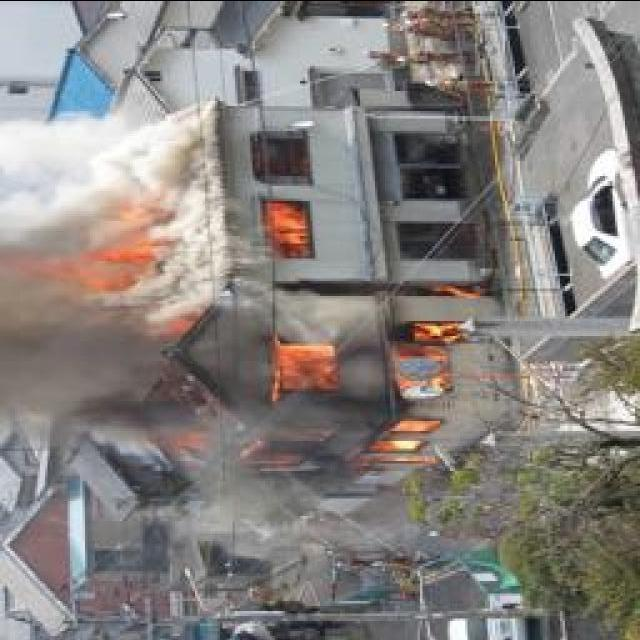Fire: (172, 274, 498, 460), (58, 196, 164, 302), (264, 192, 320, 260)
